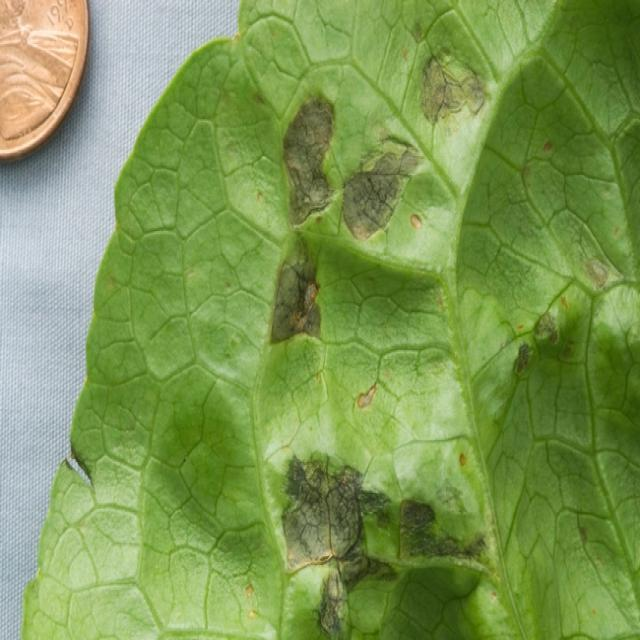Baby: (262, 32, 512, 627)
